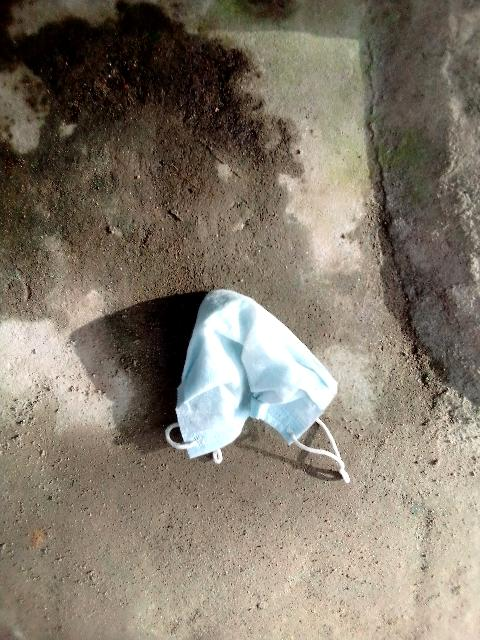mask: (160, 272, 343, 478)
